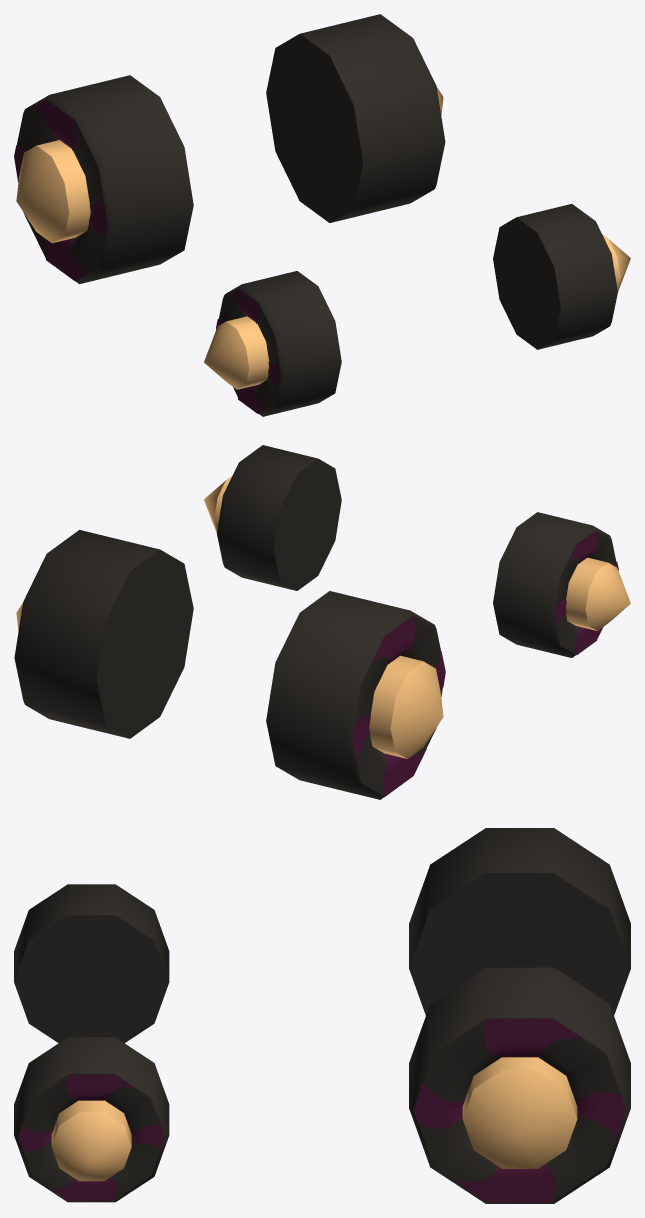
File: LuxWheel01C05.gltf
3 views of the same model, one above another, from view 1: azimuth 30°, elevation 25°; view 2: azimuth 150°, elevation 25°; view 3: azimuth 270°, elevation 25° (orthographic). The views are drawn at different scales.
Parts seen in each view (by area): view 1: LuxWheel01C05; view 2: LuxWheel01C05; view 3: LuxWheel01C05.
Part boxes in pixels (x1,y1,x2,y2): LuxWheel01C05: [14, 14, 630, 416]; LuxWheel01C05: [14, 445, 630, 799]; LuxWheel01C05: [14, 828, 630, 1203].
Size of the model in its own units: 0.2487 by 0.0932 by 0.2723.
1 material, 1 textured.
